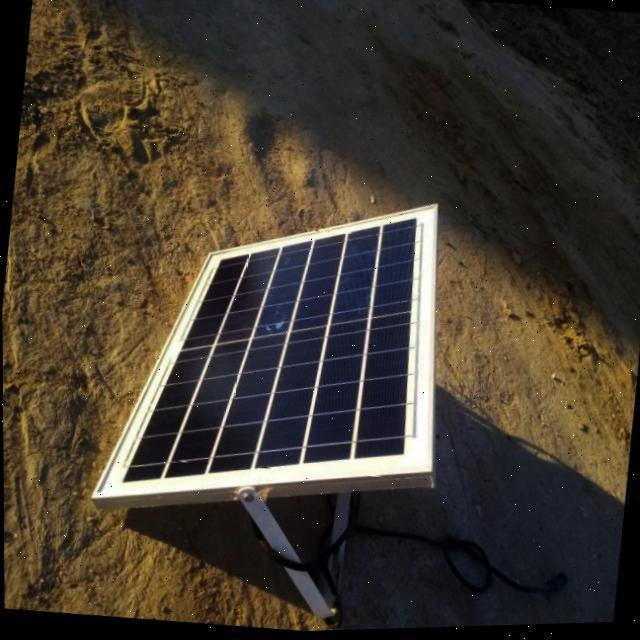Normal Solar Panel: (92, 173, 460, 532)
